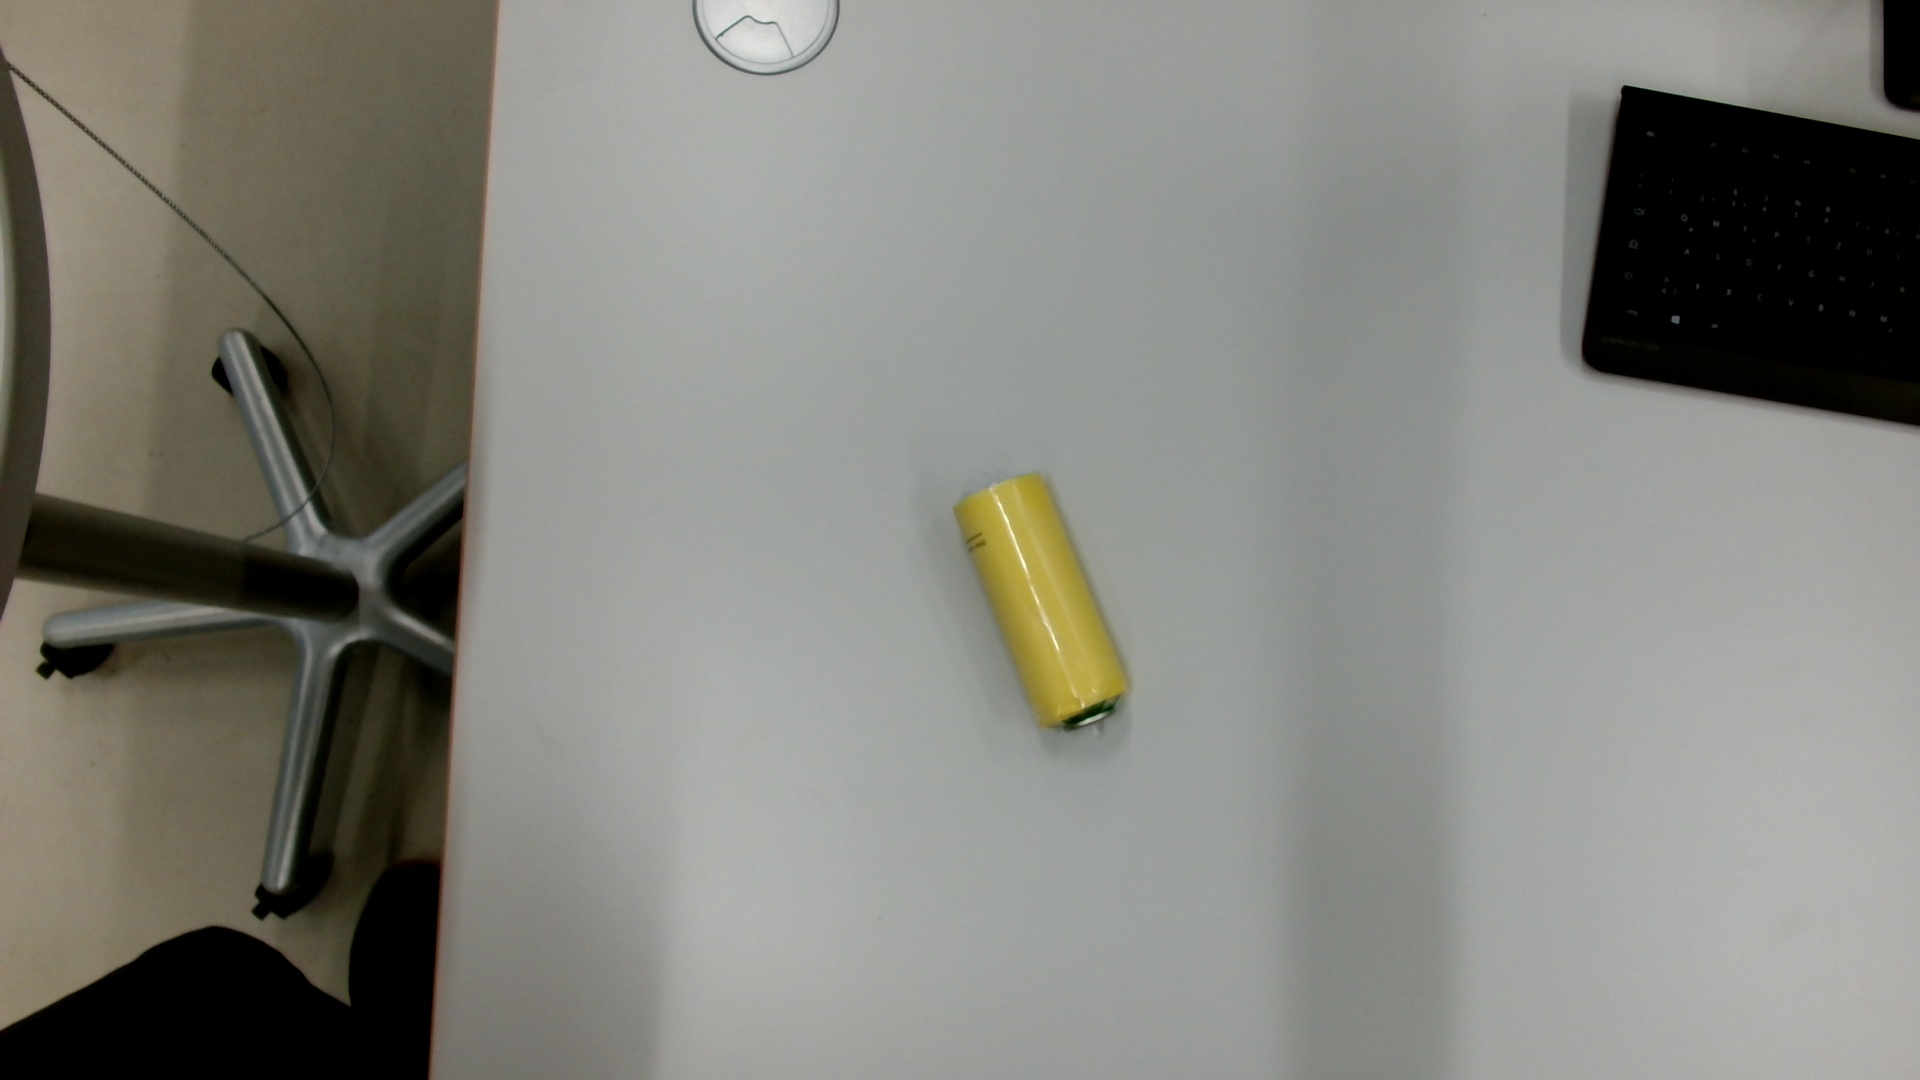Cylinder: (947, 464, 1139, 746)
